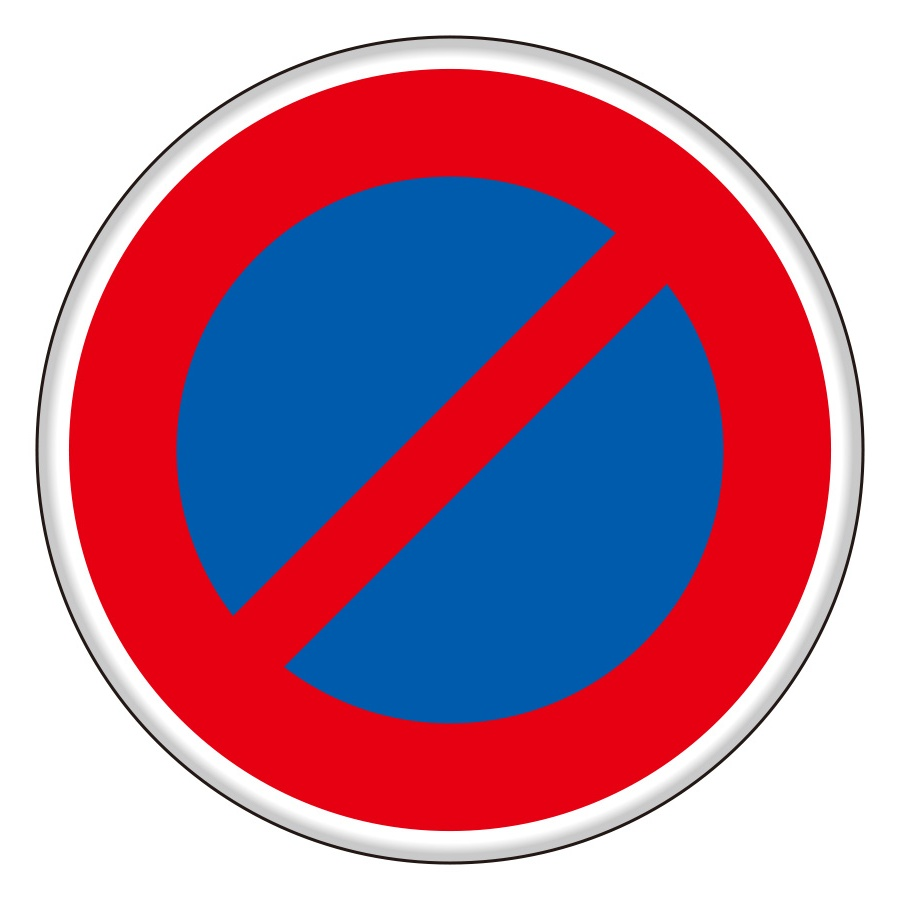Prohibition_sign: (15, 12, 875, 875)
